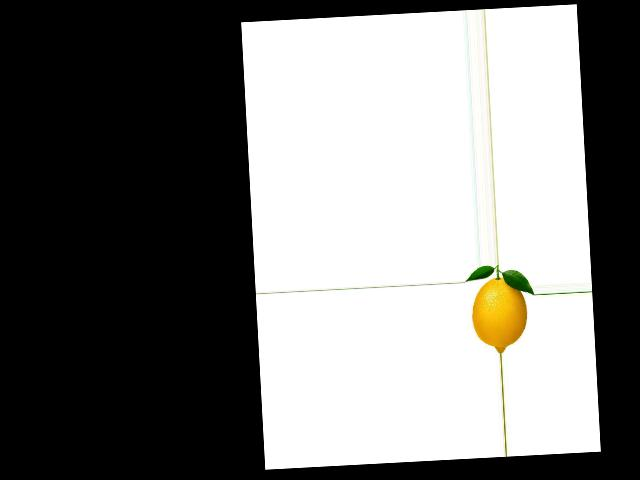lemon: (467, 269, 532, 353)
